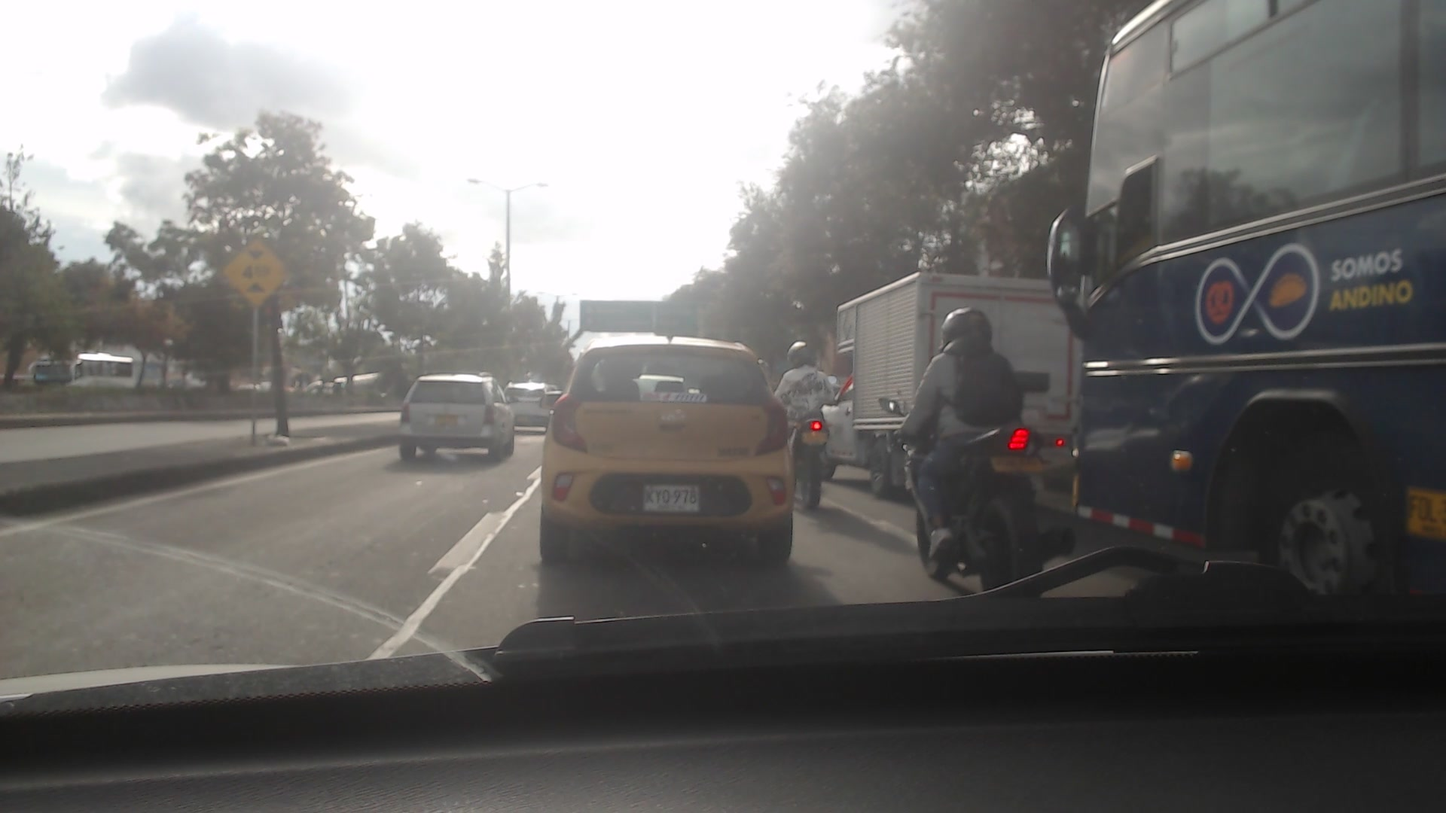bus: (1072, 0, 1446, 599)
car: (540, 330, 798, 566), (399, 374, 520, 459)
motorcycle: (868, 415, 1050, 607), (787, 407, 831, 509)
person: (898, 307, 1039, 506), (776, 338, 836, 447)
truck: (807, 273, 1069, 467)
